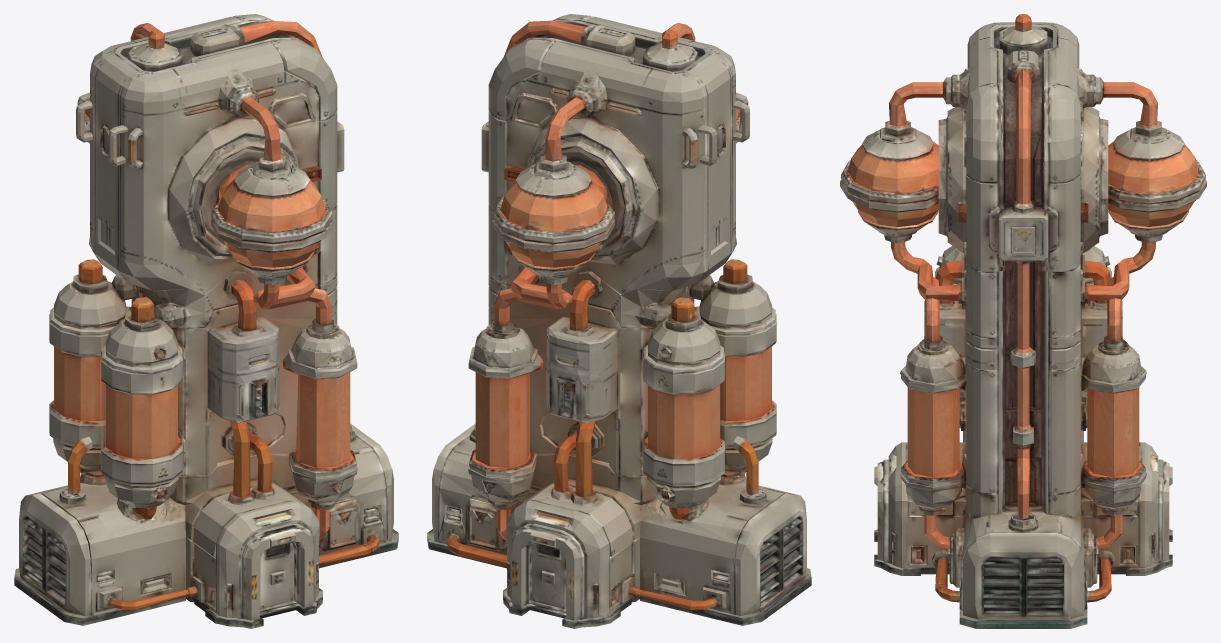
Rendered from gas-extractor.glb.
3 renders of one model, left to right at view 1: azimuth 30°, elevation 25°; view 2: azimuth 150°, elevation 25°; view 3: azimuth 270°, elevation 25°, orthographic. The views are drawn at different scales.
Visible parts, largest first — view 1: tripo_node_567d3afc-f6ab-45ad-a657-bb62b5dd85ee; view 2: tripo_node_567d3afc-f6ab-45ad-a657-bb62b5dd85ee; view 3: tripo_node_567d3afc-f6ab-45ad-a657-bb62b5dd85ee.
Part boxes in pixels (x1,y1,x2,y2): tripo_node_567d3afc-f6ab-45ad-a657-bb62b5dd85ee: (14, 14, 398, 628); tripo_node_567d3afc-f6ab-45ad-a657-bb62b5dd85ee: (427, 14, 811, 628); tripo_node_567d3afc-f6ab-45ad-a657-bb62b5dd85ee: (840, 14, 1206, 628).
Size of the model in its own units: 0.6439 by 1 by 0.6478.
Materials: 1 (1 with a texture image).
